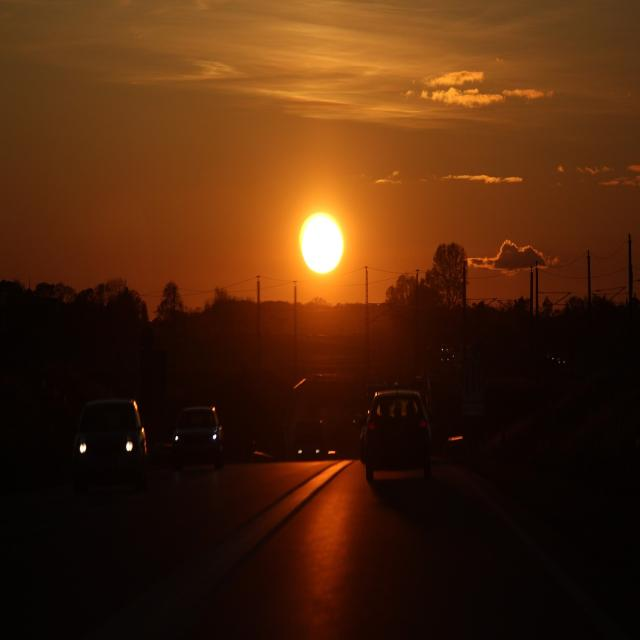sun: (270, 188, 373, 304)
